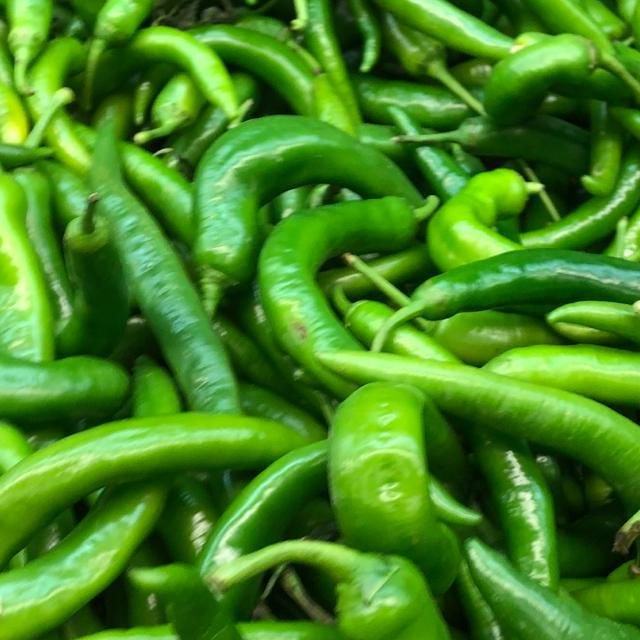chili_pepper: (362, 225, 640, 370), (0, 467, 217, 640)
